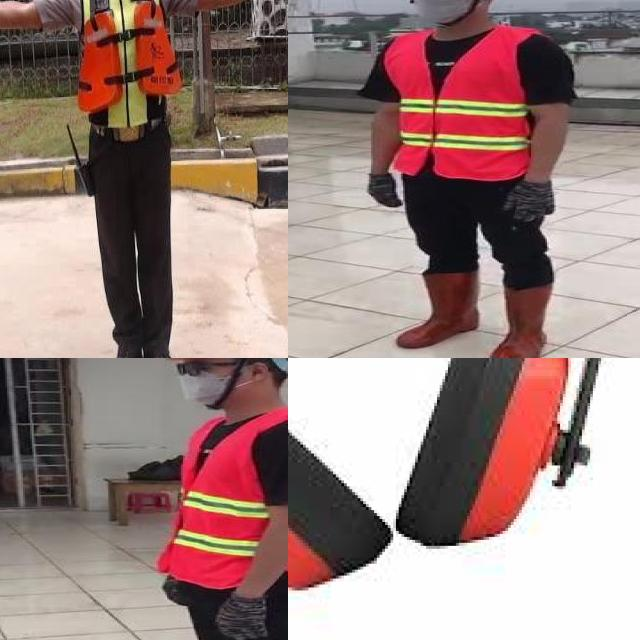Ear-protection: (387, 358, 568, 546), (288, 358, 393, 587)
boots: (398, 271, 481, 347), (486, 285, 557, 358), (106, 342, 143, 358), (144, 342, 181, 358)
face_mask: (171, 358, 257, 408), (399, 0, 475, 24)
glasses: (166, 358, 246, 380)
hand_glove: (209, 594, 279, 640), (503, 179, 563, 224), (364, 173, 406, 208)
person: (0, 0, 288, 358), (356, 0, 584, 358), (133, 358, 288, 640)
vest: (152, 413, 288, 589), (382, 34, 542, 178), (76, 0, 181, 130)
